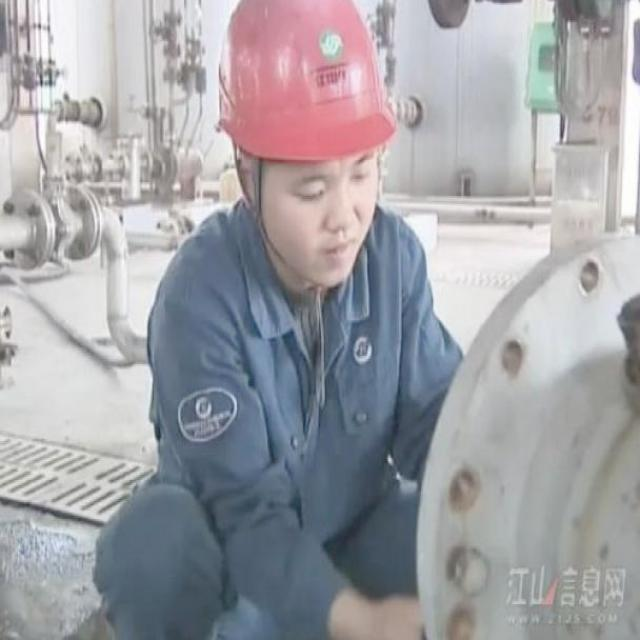helmet: (207, 3, 424, 294)
